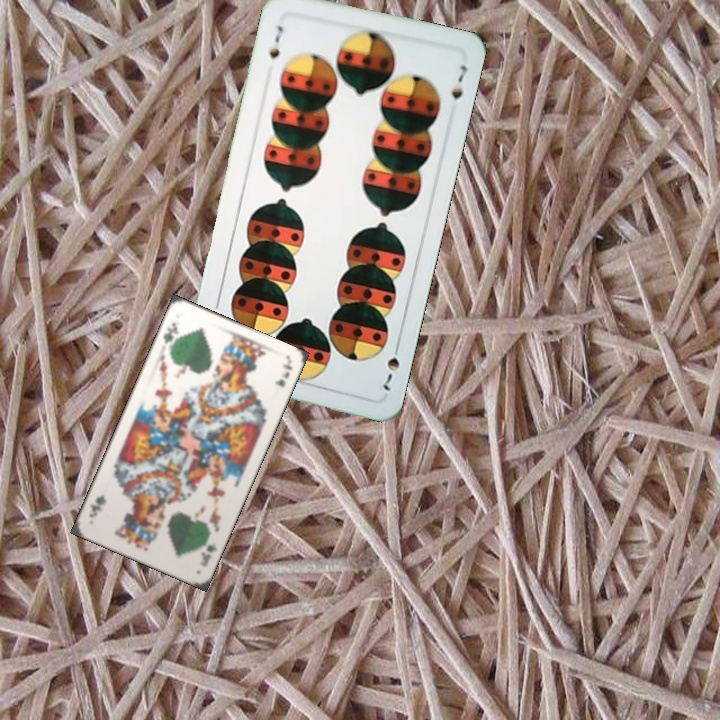GK: (196, 538, 220, 569), (159, 318, 181, 347)
S7: (379, 338, 403, 394), (264, 21, 286, 61)
